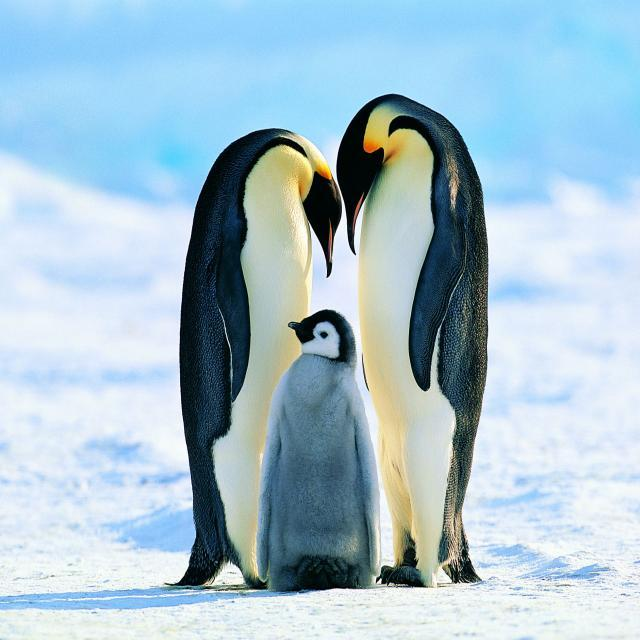Penguin: (175, 123, 338, 572), (344, 106, 489, 578), (259, 314, 379, 594)
